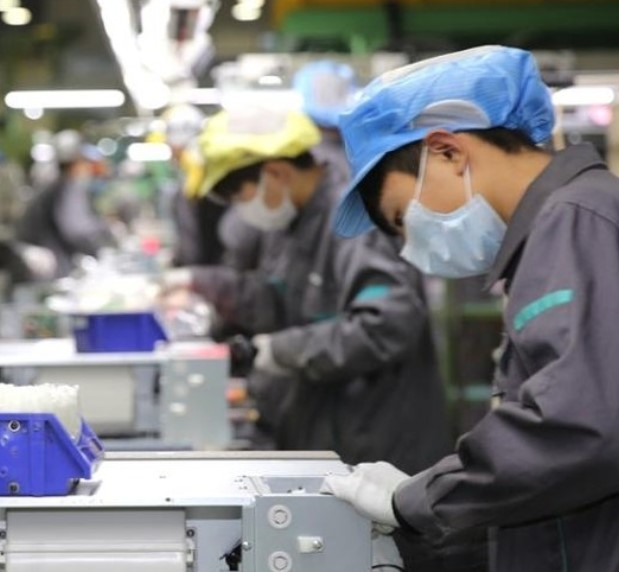face_with_mask: (335, 90, 521, 287), (214, 150, 316, 237)
